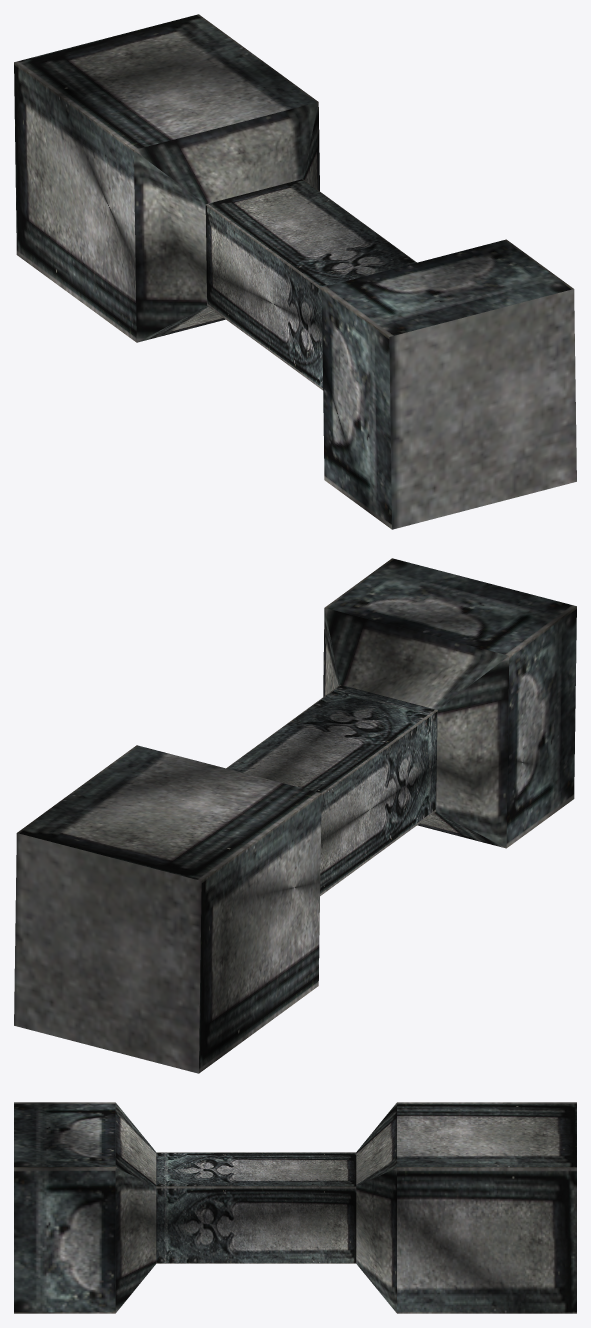
The model's file is column_12.obj.
The picture shows the model from 3 angles, top to bottom: view 1: azimuth 30°, elevation 25°; view 2: azimuth 150°, elevation 25°; view 3: azimuth 270°, elevation 25°; orthographic projection. The views are drawn at different scales.
Parts seen in each view (by area): view 1: (null); view 2: (null); view 3: (null).
Part boxes in pixels (box(x1,y1,x2,y2)): (null): box(14, 14, 576, 529); (null): box(14, 558, 576, 1073); (null): box(14, 1102, 576, 1313).
Size of the model in its own units: 0.8002 by 0.8002 by 2.77.
